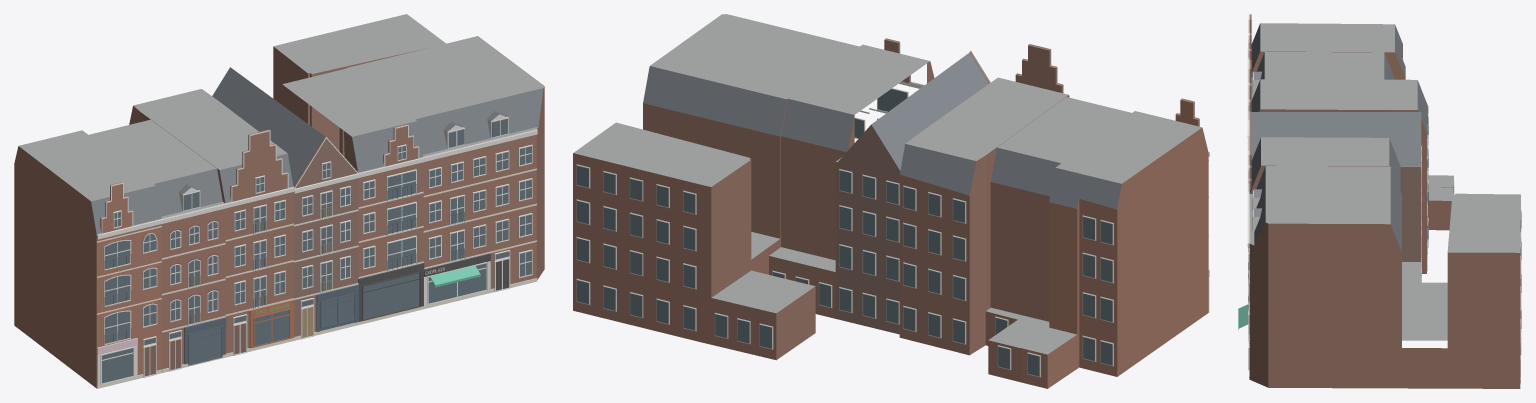
File: chunk-face-bilder-161259-236206.glb
3 renders of one model, left to right at view 1: azimuth 30°, elevation 25°; view 2: azimuth 150°, elevation 25°; view 3: azimuth 270°, elevation 25°, orthographic. The views are drawn at different scales.
Parts seen in each view (by area): view 1: face-bilder-161259-236206; view 2: face-bilder-161259-236206; view 3: face-bilder-161259-236206.
Part boxes in pixels (left/top/right/bottom): face-bilder-161259-236206: left=14, top=14, right=544, bottom=388; face-bilder-161259-236206: left=573, top=14, right=1209, bottom=388; face-bilder-161259-236206: left=1238, top=14, right=1521, bottom=388.
Bounding box in the file's own units: 42.45 × 19.05 × 25.15.
